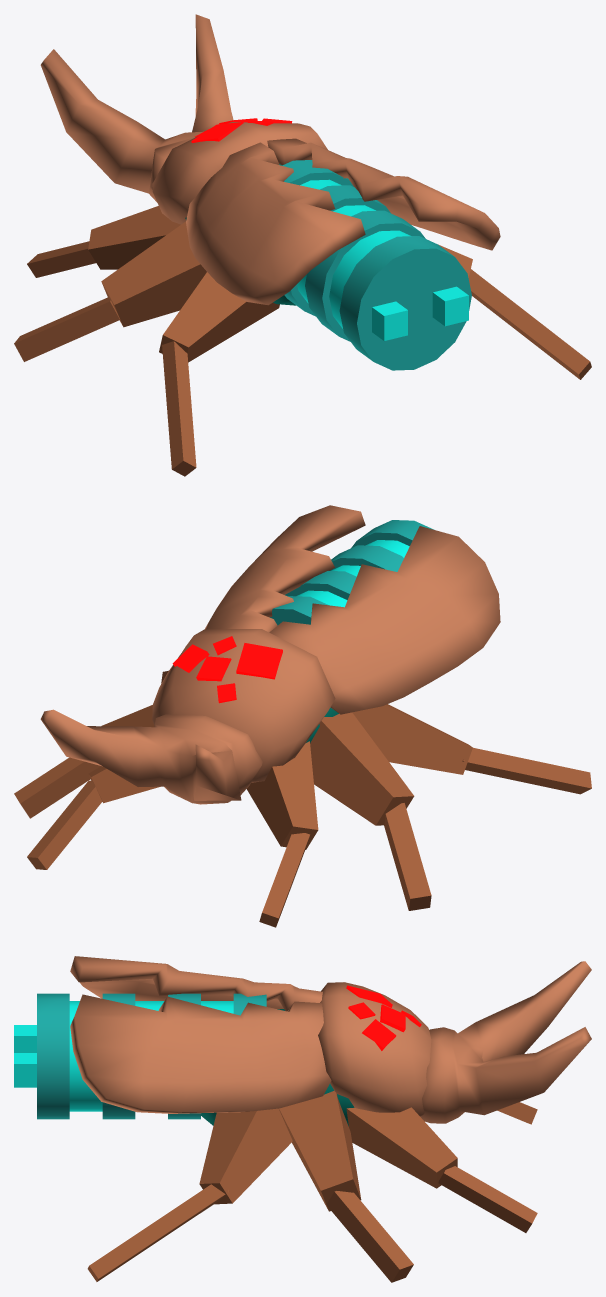
The model's file is SM_Beetle.fbx.
3 renders of one model, top to bottom at view 1: azimuth 30°, elevation 25°; view 2: azimuth 150°, elevation 25°; view 3: azimuth 270°, elevation 25°, orthographic. The views are drawn at different scales.
Visible parts, largest first — view 1: Beetle, Charge; view 2: Beetle, Charge; view 3: Beetle, Charge.
Part boxes in pixels (left/top/right/bottom): Beetle: left=14, top=14, right=591, bottom=476; Charge: left=297, top=179, right=411, bottom=328; Beetle: left=14, top=505, right=591, bottom=927; Charge: left=296, top=540, right=409, bottom=607; Beetle: left=14, top=956, right=591, bottom=1282; Charge: left=69, top=1001, right=233, bottom=1111.
Bounding box in the file's own units: 1.36 × 0.6845 × 1.71.
Materials: 2 (1 with a texture image).
